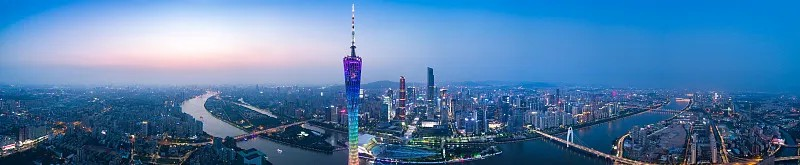Canton: (344, 4, 364, 165)
